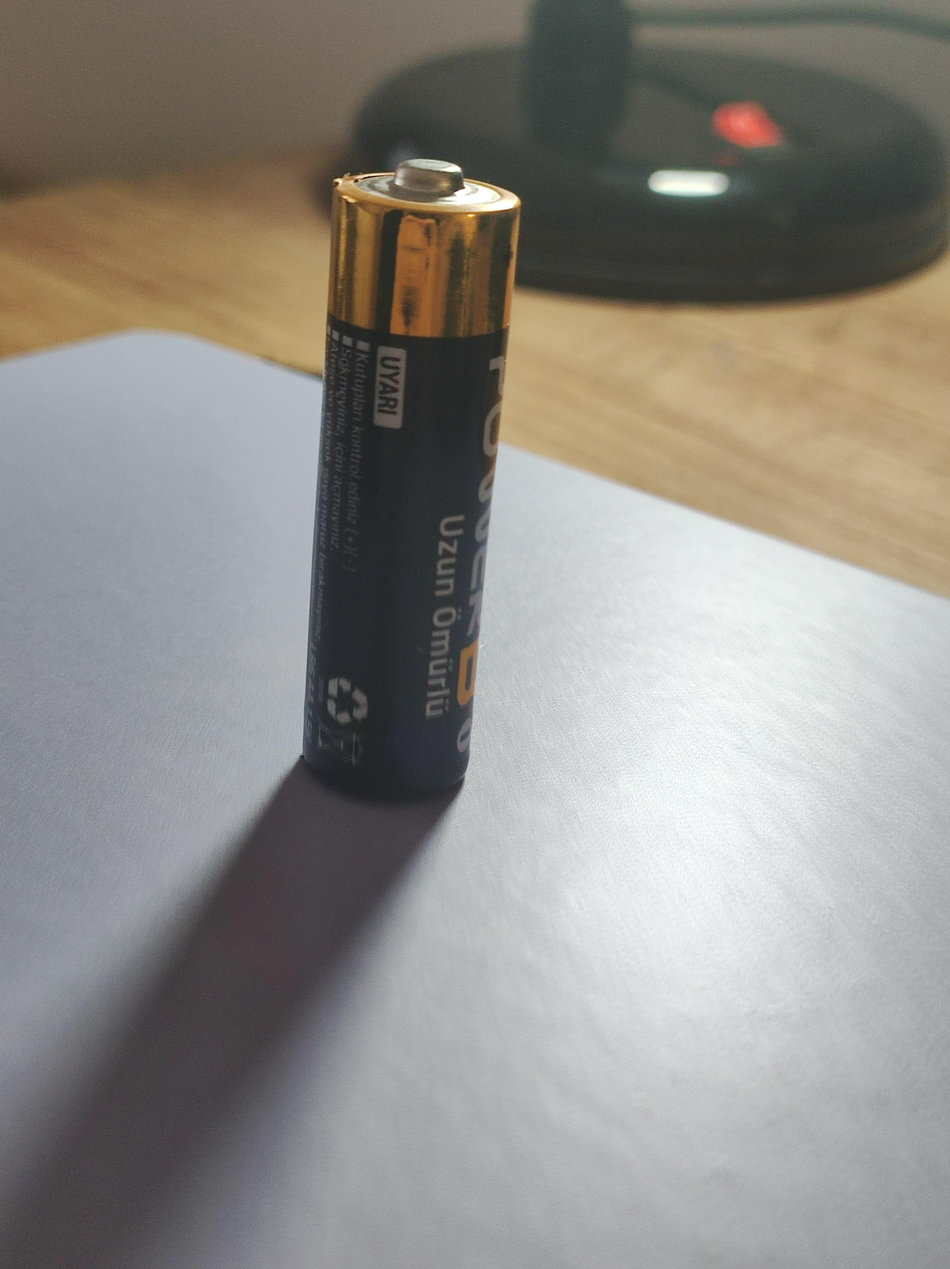AA: (288, 147, 530, 817)
